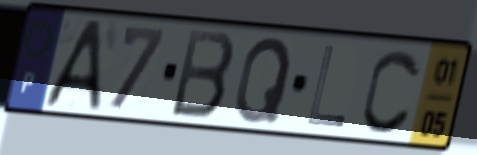7: (109, 22, 169, 115)
A: (40, 17, 107, 112)
B: (167, 26, 238, 123)
C: (359, 46, 424, 138)
L: (304, 43, 348, 131)
Q: (232, 34, 296, 126)
